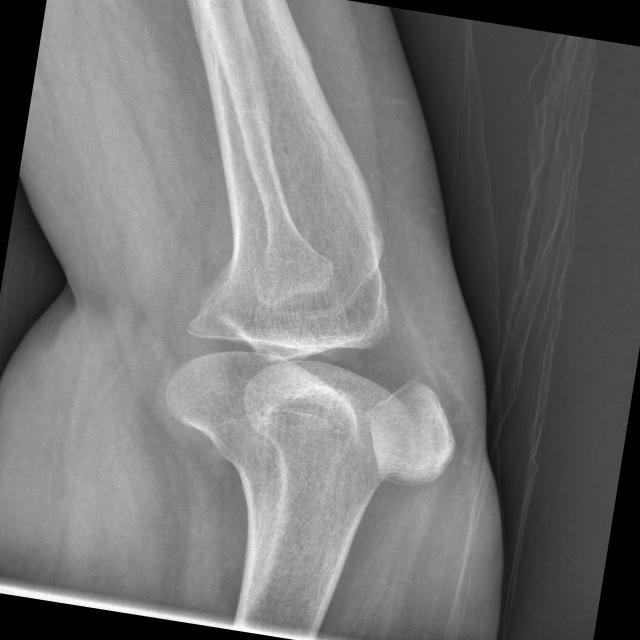Knee: (154, 247, 479, 490)
